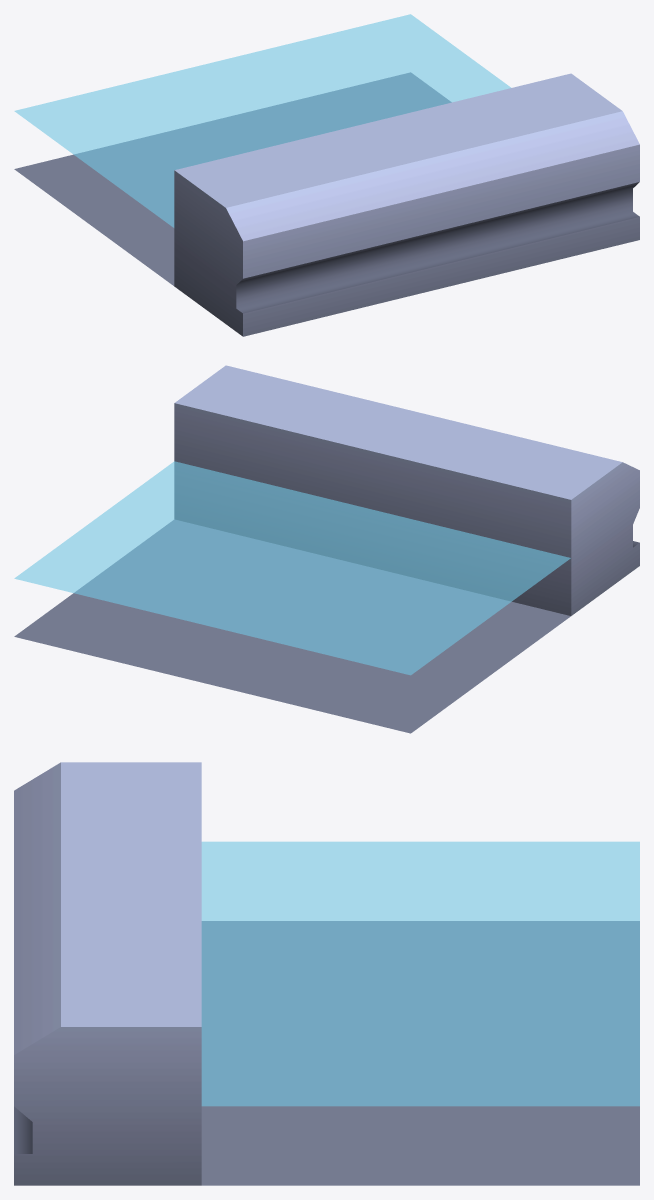
Rendered from fountain-edge.glb.
3 views of the same model, one above another, from view 1: azimuth 30°, elevation 25°; view 2: azimuth 150°, elevation 25°; view 3: azimuth 270°, elevation 25° (orthographic). The views are drawn at different scales.
Parts seen in each view (by area): view 1: fountain-edge, (%ignore); view 2: fountain-edge, (%ignore); view 3: fountain-edge, (%ignore).
Part boxes in pixels (x1,y1,x2,y2): fountain-edge: (14, 72, 639, 336); (%ignore): (14, 14, 510, 227); fountain-edge: (14, 365, 639, 733); (%ignore): (14, 461, 570, 675); fountain-edge: (14, 762, 639, 1185); (%ignore): (201, 841, 639, 1106).
Bounding box in the file's own units: 1 × 0.2799 × 1.
2 materials, 1 textured.
